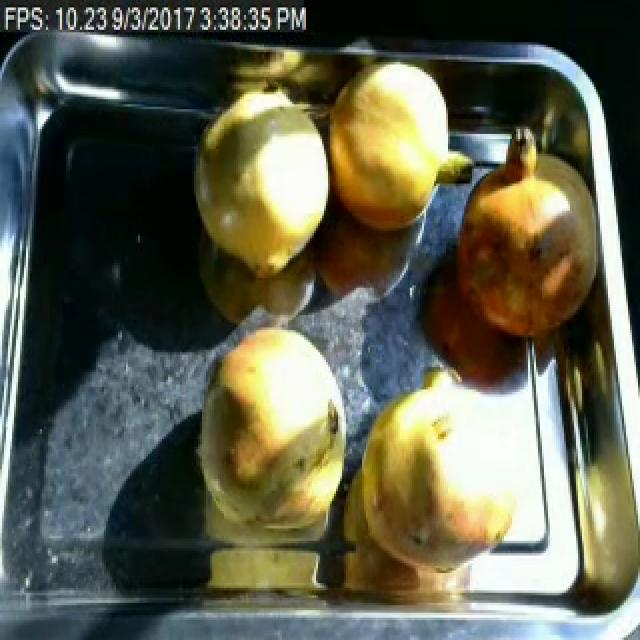fruit: (348, 357, 536, 593), (188, 315, 358, 543), (444, 134, 612, 352), (188, 70, 338, 286), (318, 52, 468, 246)
